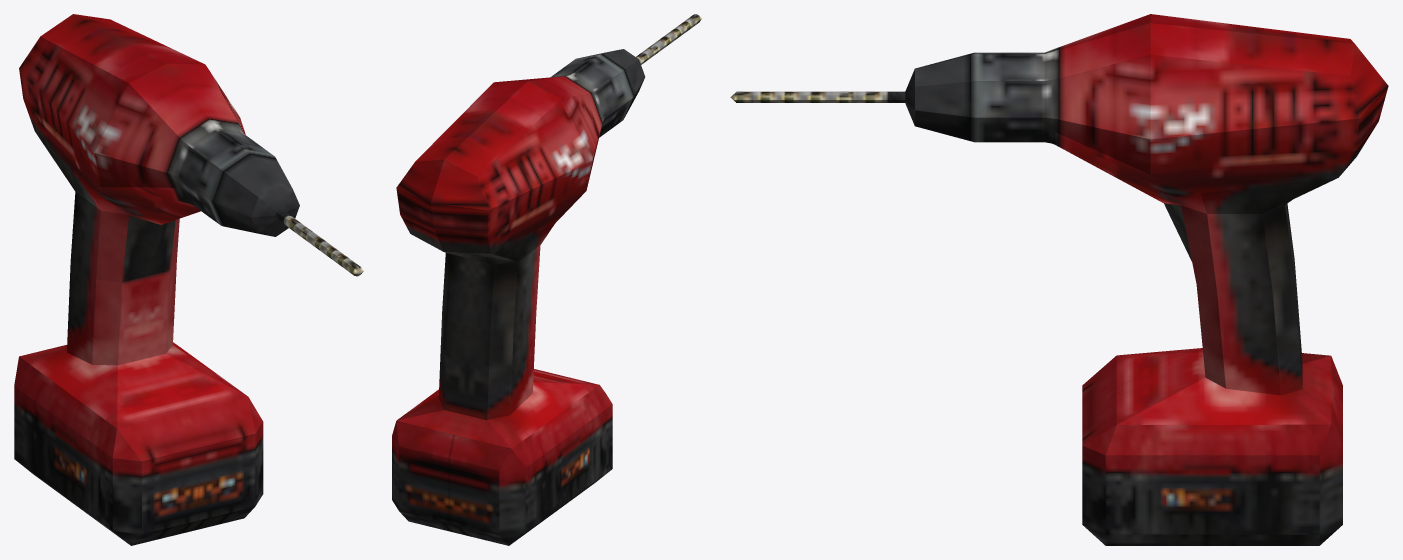
Rendered from Drill.fbx.
The picture shows the model from 3 angles, left to right: view 1: azimuth 30°, elevation 25°; view 2: azimuth 150°, elevation 25°; view 3: azimuth 270°, elevation 25°; orthographic projection. The views are drawn at different scales.
Visible parts, largest first — view 1: Drill; view 2: Drill; view 3: Drill.
Part boxes in pixels (x1=…): Drill: x1=14, y1=14, x2=363, y2=545; Drill: x1=392, y1=14, x2=701, y2=545; Drill: x1=730, y1=14, x2=1388, y2=545.
Bounding box in the file's own units: 120 × 345 × 417.
1 material, 1 textured.
